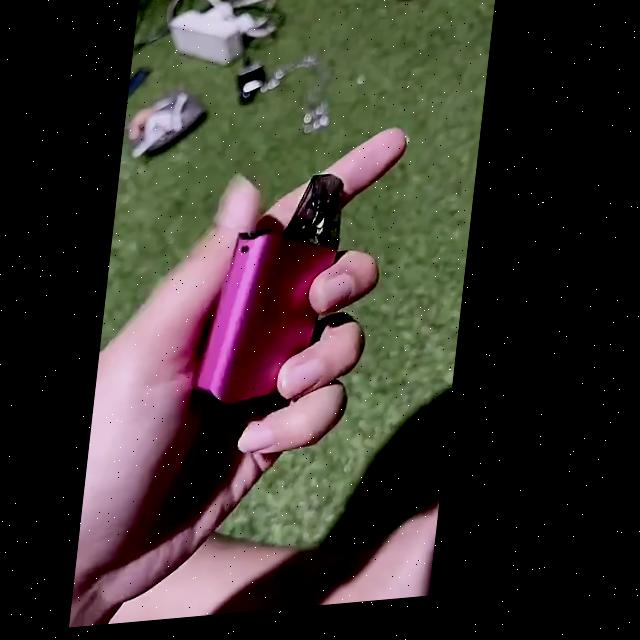vape: (197, 178, 354, 414)
